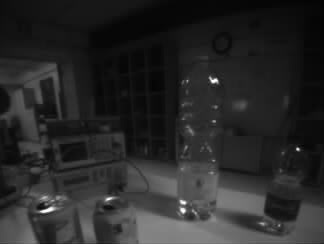Bottle: (180, 59, 218, 219), (267, 146, 299, 230)
Tin can: (33, 196, 80, 244), (96, 199, 139, 244)
